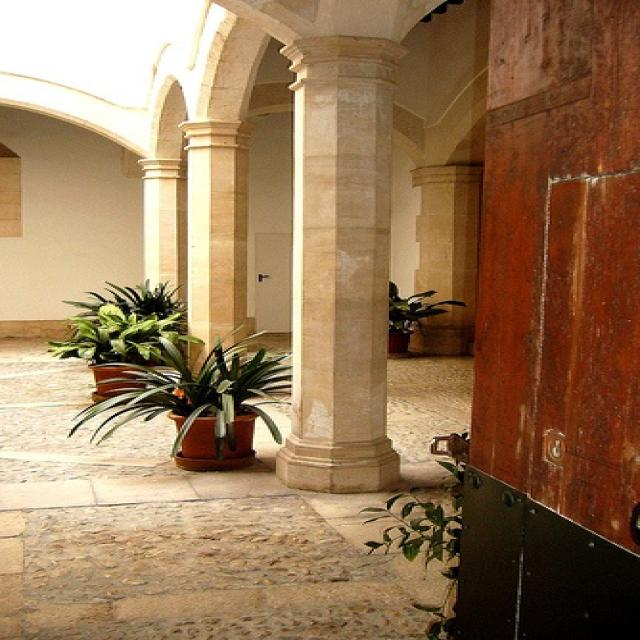pottedplant: (75, 333, 287, 471), (52, 314, 194, 401), (385, 280, 466, 362), (61, 279, 192, 312)
